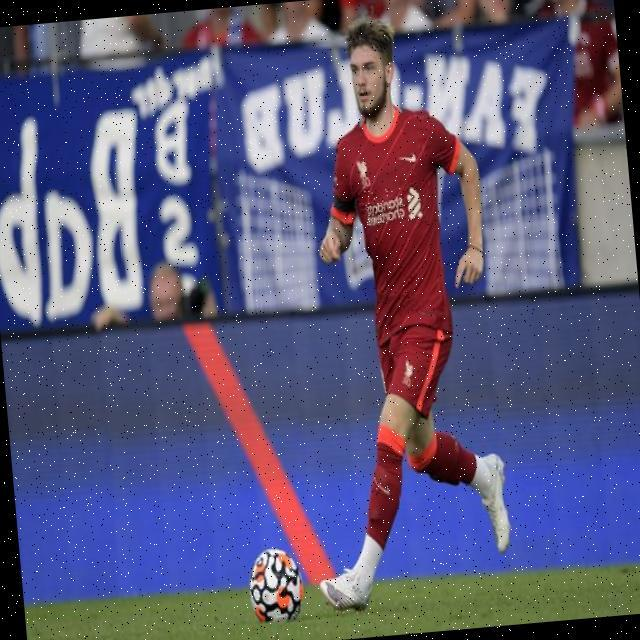Nike: (374, 476, 390, 497), (399, 152, 416, 163)
Standard Chartered: (364, 186, 423, 225)
